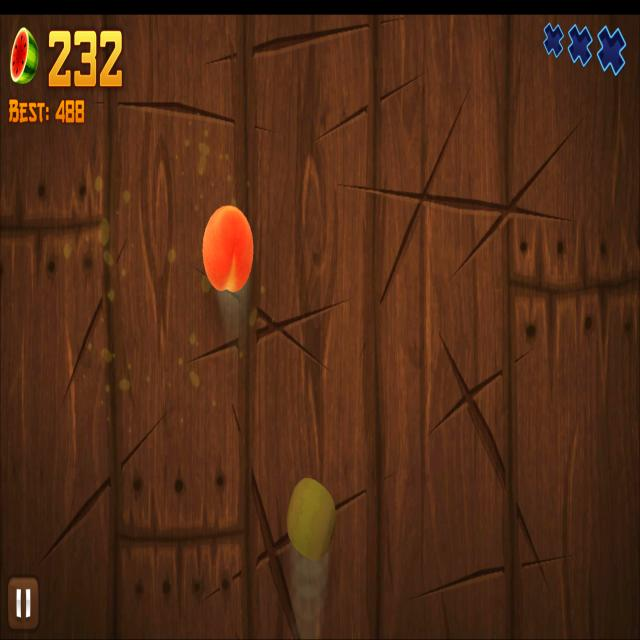fruit: (202, 203, 254, 294), (286, 476, 336, 562)
